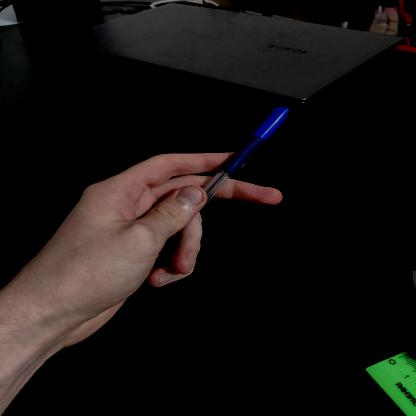pen: (137, 103, 299, 260)
